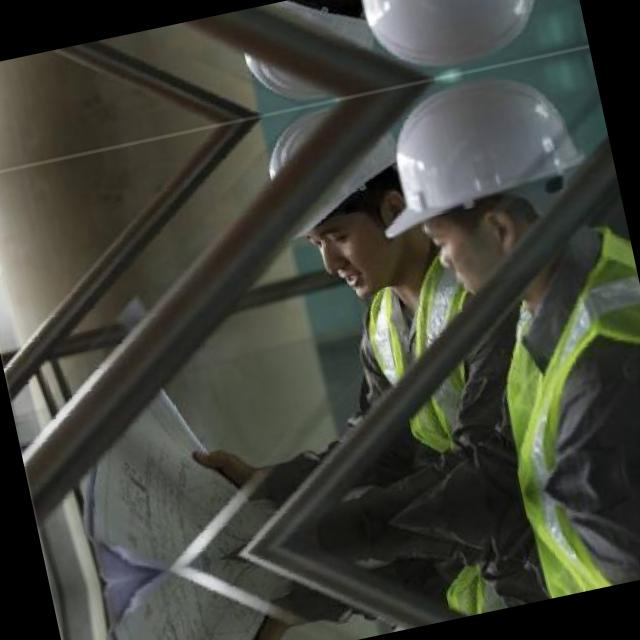helmet: (358, 59, 604, 317), (255, 94, 434, 306), (332, 0, 554, 86), (231, 0, 394, 107)
